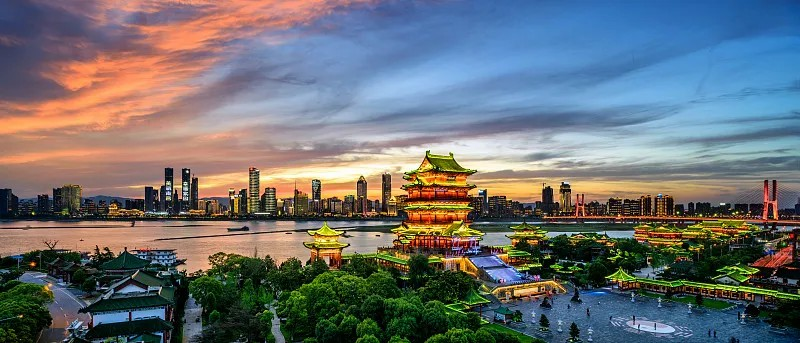Teng: (390, 150, 486, 256)
